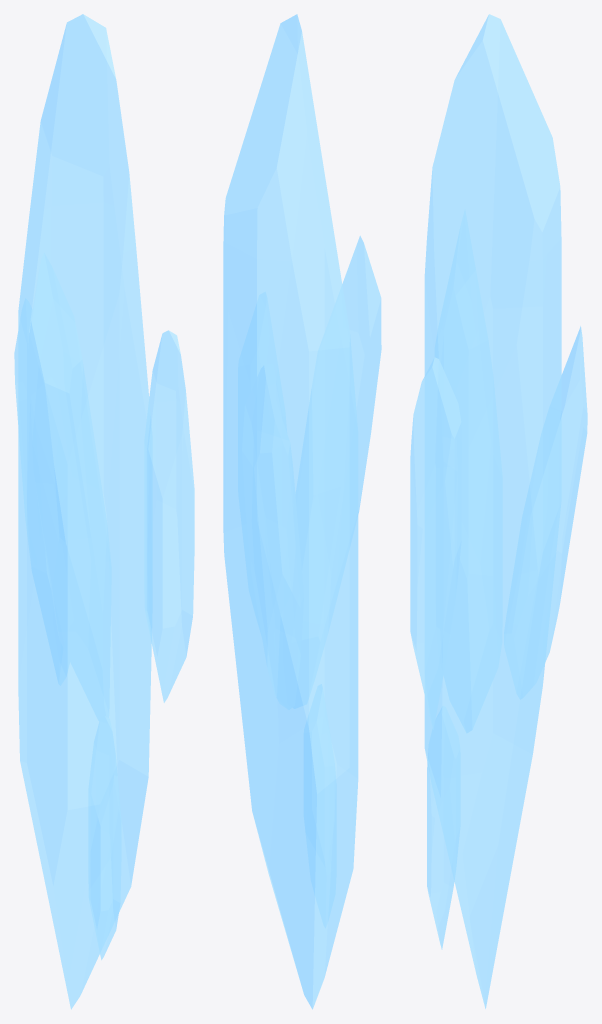
File: NormFlippedCrystal.fbx
The picture shows the model from 3 angles, left to right: view 1: azimuth 30°, elevation 25°; view 2: azimuth 150°, elevation 25°; view 3: azimuth 270°, elevation 25°; orthographic projection.
Parts seen in each view (by area): view 1: crystal.004; view 2: crystal.004; view 3: crystal.004.
Boxes of the visible parts, left/top/right/bottom form: crystal.004: left=14, top=14, right=194, bottom=1009; crystal.004: left=223, top=14, right=381, bottom=1009; crystal.004: left=410, top=14, right=587, bottom=1008.
Bounding box in the file's own units: 2510 × 16149 × 2584.
